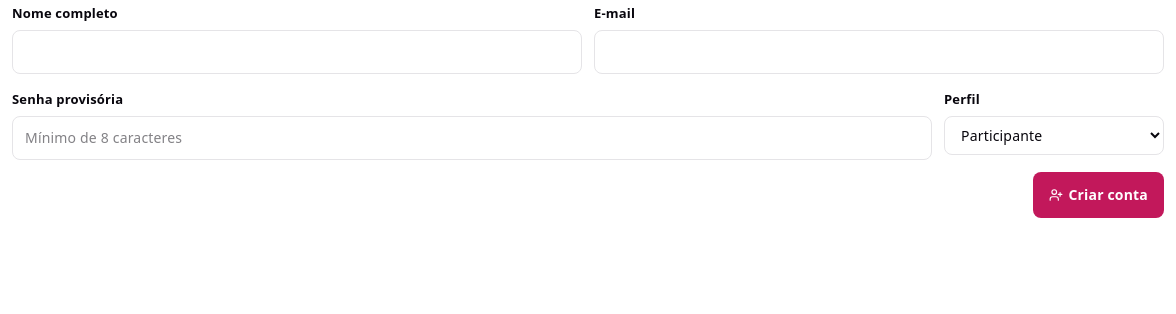
it: UserForm › não envia com campos vazios
Step 1. Click the button "Criar conta" → (1098, 195), box [1033, 172, 1164, 218]
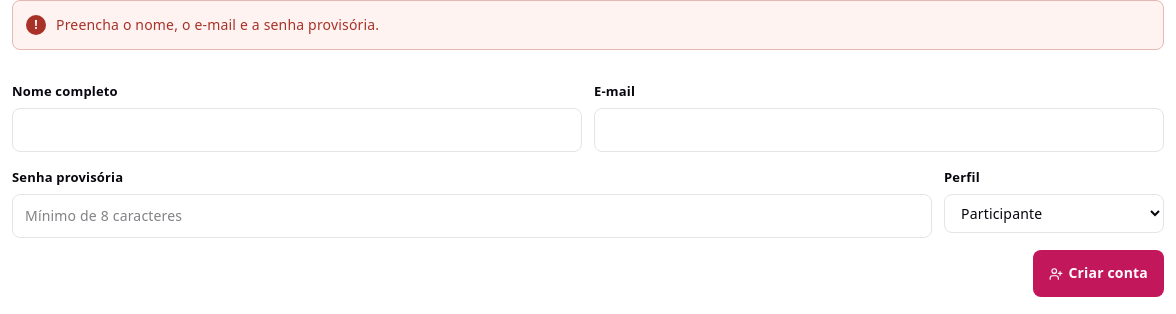
Expected: the message shows "Preencha o nome, o e-mail e a senha provisória.", [56, 15, 379, 34]
